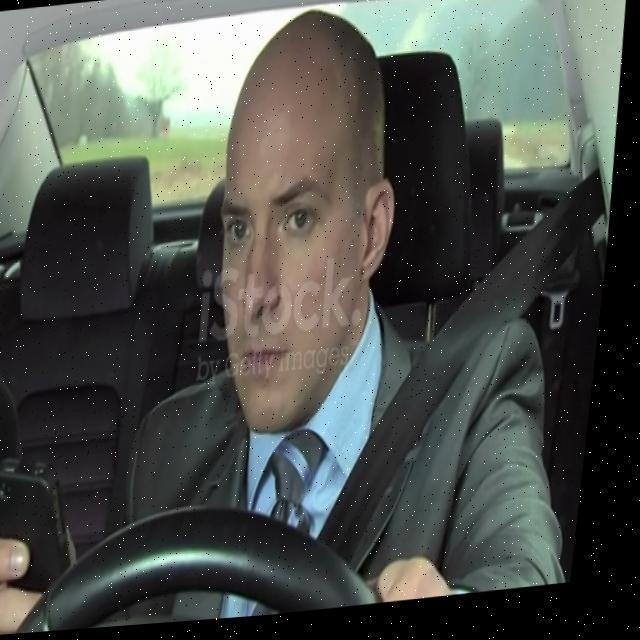PhoneCall: (0, 452, 94, 608)
